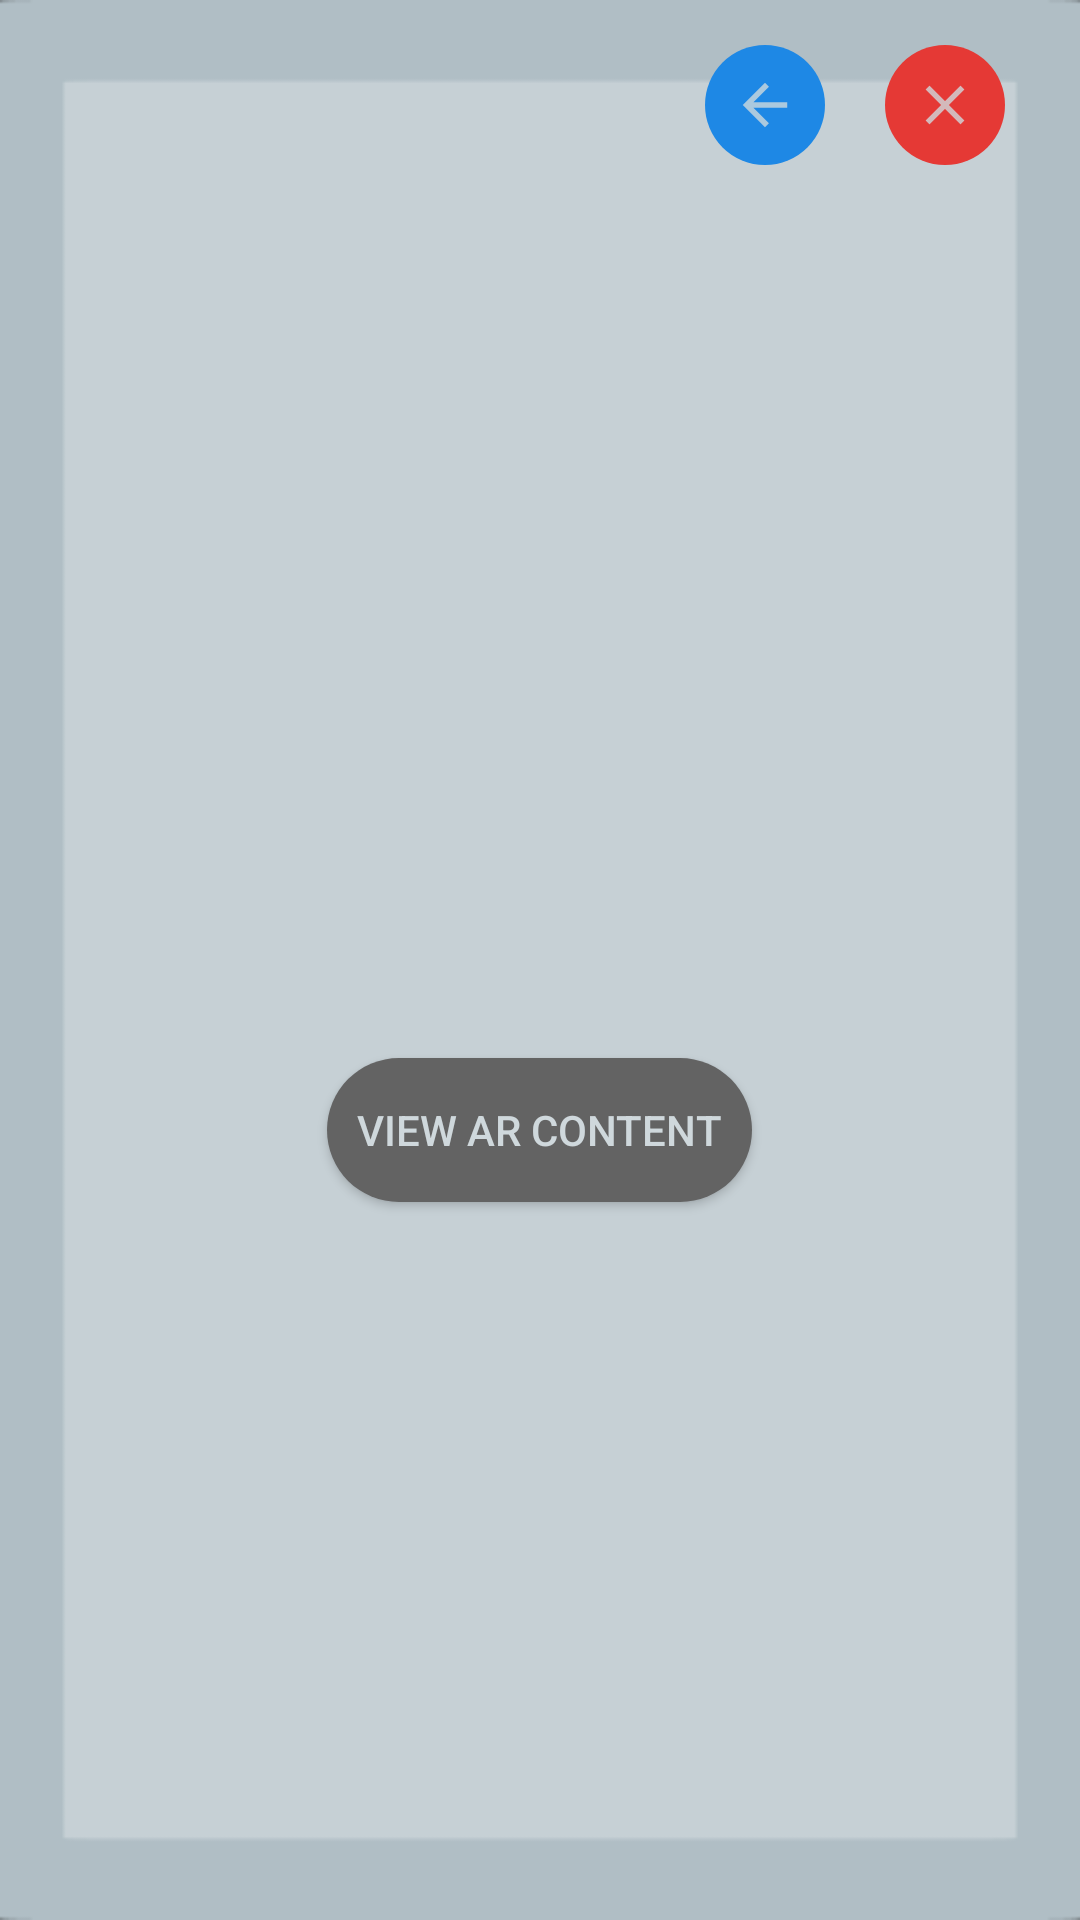

Named icons in this screenshot (1080x1920) and their centers, (x,y):
Back: (765,105)
Close: (945,105)
